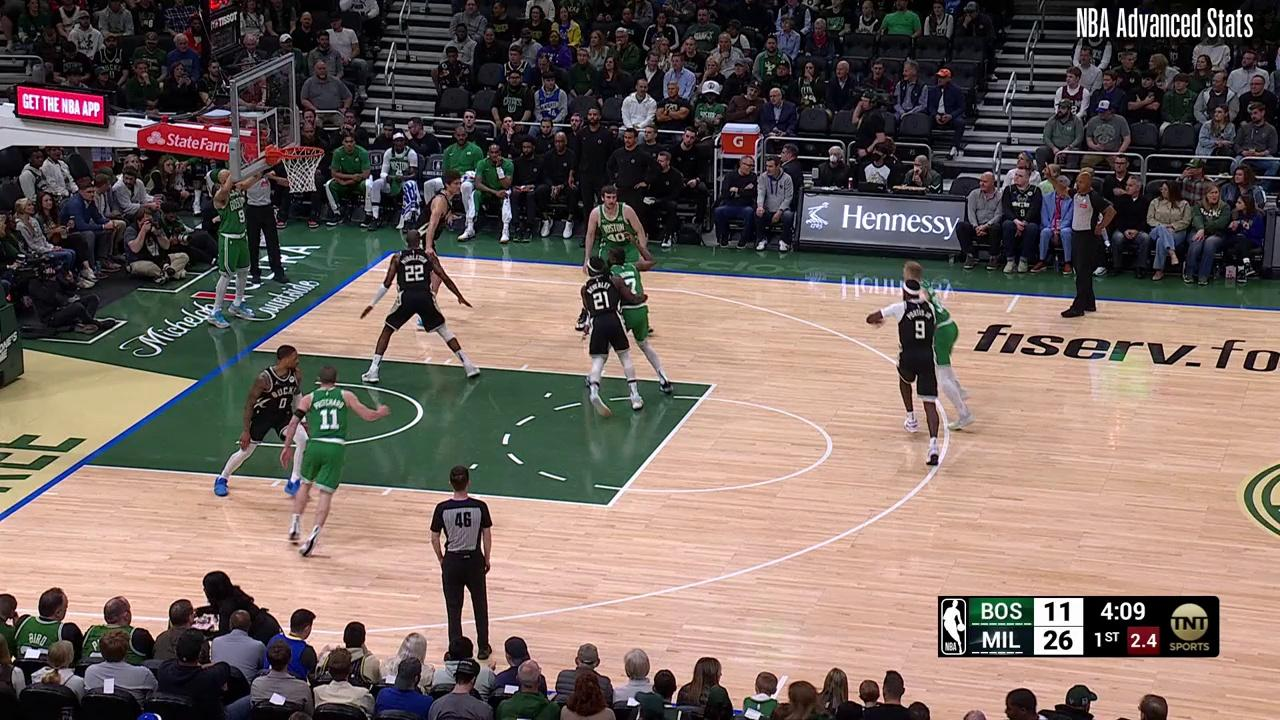3_dx: (360, 262, 373, 275)
b_dx: (382, 246, 397, 258)
free_adx: (708, 379, 721, 391)
free_asx: (601, 499, 614, 512)
free_bdx: (242, 344, 258, 356)
free_bsx: (72, 458, 89, 471)
mid_dx: (1001, 305, 1015, 316)
mid_sx: (780, 670, 790, 681)
referee: (431, 465, 494, 660), (1060, 174, 1115, 317), (241, 150, 292, 286)
team: (281, 367, 389, 557), (903, 260, 974, 434), (592, 246, 673, 393), (579, 187, 650, 333), (211, 168, 261, 325)
team1: (359, 231, 477, 381), (866, 279, 941, 466), (214, 347, 306, 495), (577, 257, 643, 413), (412, 171, 461, 328)
timer: (1098, 598, 1149, 622)
